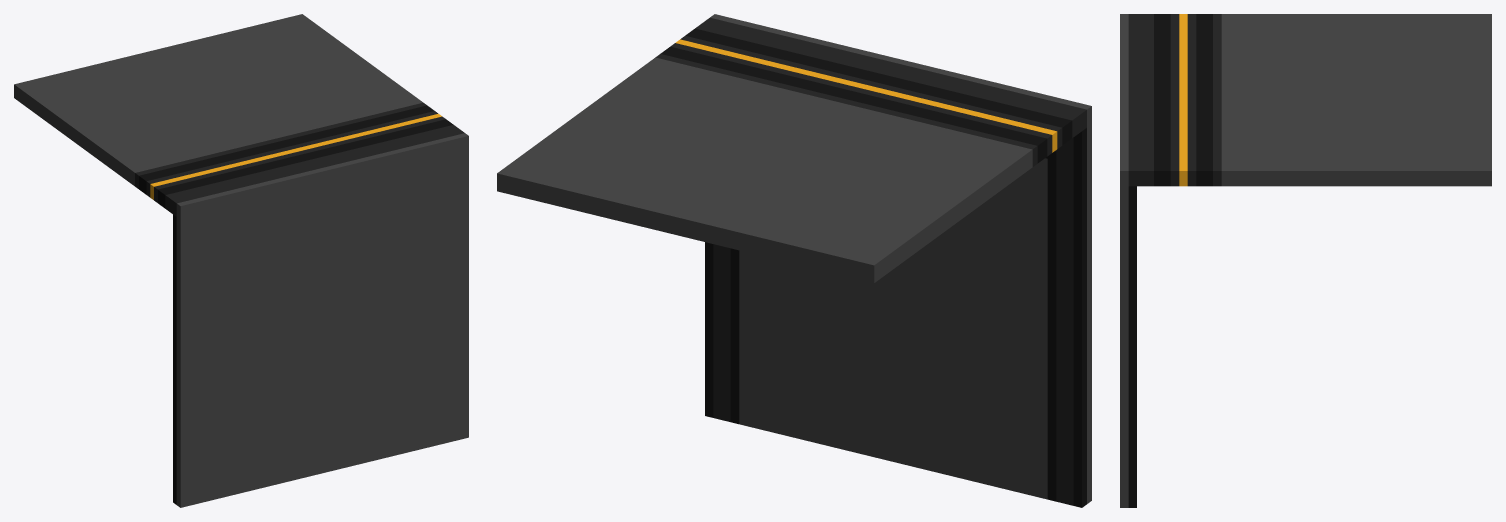
File: mesh_hanger_door_frame_top.obj
3 renders of one model, left to right at view 1: azimuth 30°, elevation 25°; view 2: azimuth 150°, elevation 25°; view 3: azimuth 270°, elevation 25°, orthographic. The views are drawn at different scales.
Bounding box in the file's own units: 4.4 × 4.4 × 4.4.
Materials: 1 (1 with a texture image).
